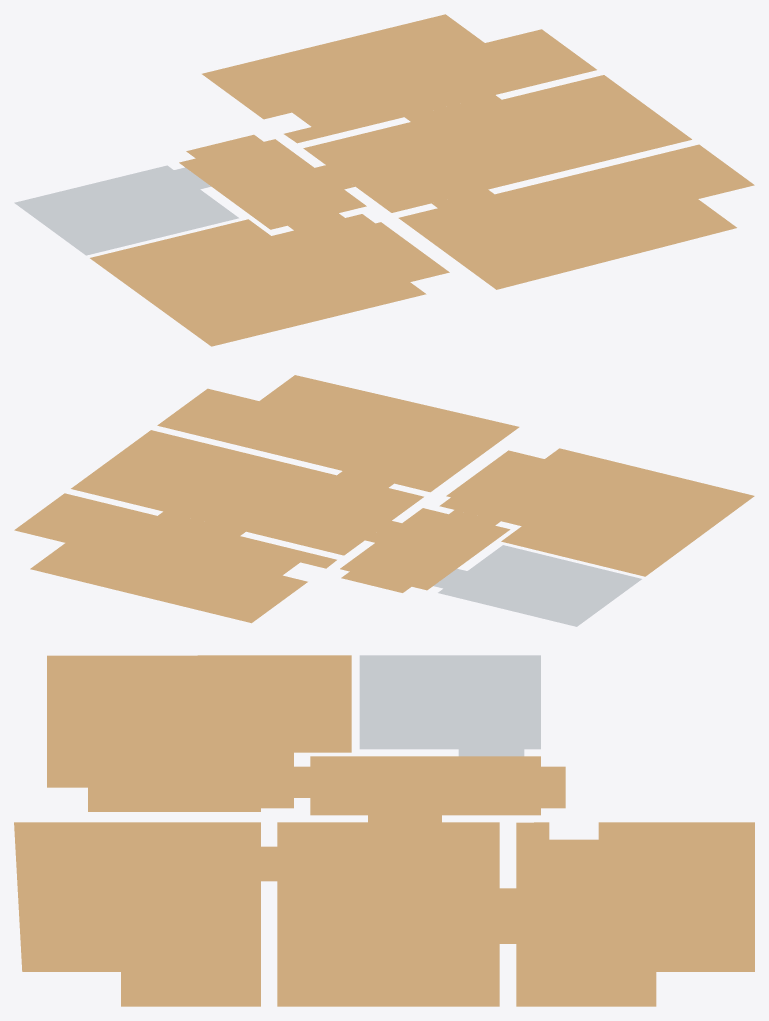
File: Floor.glb
The picture shows the model from 3 angles, top to bottom: view 1: azimuth 30°, elevation 25°; view 2: azimuth 150°, elevation 25°; view 3: azimuth 270°, elevation 25°; orthographic projection. The views are drawn at different scales.
Visible parts, largest first — view 1: FloorKitchen, FloorSleeping, FloorLivingRoom, FloorWorking, FloorBathroom, FloorHallway, DoorHouse, DoorWorking; view 2: FloorKitchen, FloorSleeping, FloorLivingRoom, FloorWorking, FloorBathroom, FloorHallway, DoorHouse, DoorWorking; view 3: FloorKitchen, FloorSleeping, FloorLivingRoom, FloorWorking, FloorBathroom, FloorHallway, DoorHouse, DoorWorking, DoorSleeping, DoorLivingRoom.
Part boxes in pixels (x1,y1,x2,y2): FloorKitchen: (90, 214, 449, 346); FloorSleeping: (398, 144, 754, 289); FloorLivingRoom: (303, 75, 691, 212); FloorWorking: (202, 14, 596, 143); FloorBathroom: (14, 165, 238, 255); FloorHallway: (179, 139, 366, 229); DoorHouse: (186, 134, 263, 158); DoorWorking: (404, 95, 501, 121); FloorKitchen: (439, 448, 754, 576); FloorSleeping: (157, 375, 519, 492); FloorLivingRoom: (71, 430, 423, 555); FloorWorking: (14, 493, 336, 623); FloorBathroom: (438, 545, 641, 626); FloorHallway: (340, 508, 510, 590); DoorHouse: (341, 571, 411, 592); DoorWorking: (158, 511, 245, 535); FloorKitchen: (47, 655, 351, 811); FloorSleeping: (14, 822, 260, 1006); FloorLivingRoom: (277, 822, 499, 1006); FloorWorking: (516, 822, 754, 1006); FloorBathroom: (359, 655, 540, 749); FloorHallway: (310, 756, 540, 815); DoorHouse: (541, 766, 565, 808); DoorWorking: (499, 888, 516, 943); DoorSleeping: (261, 846, 277, 881); DoorLivingRoom: (368, 815, 441, 822).
Bounding box in the file's own units: 10.1 × 5.96e-05 × 9.
